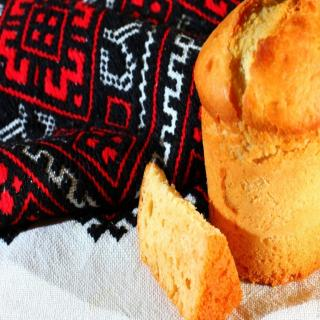Bread: (192, 0, 320, 288), (138, 161, 244, 320)
